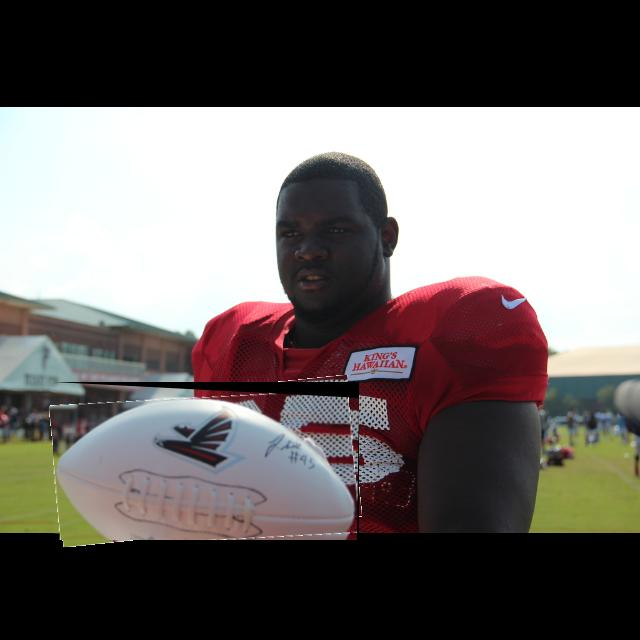Football: (53, 382, 359, 540)
